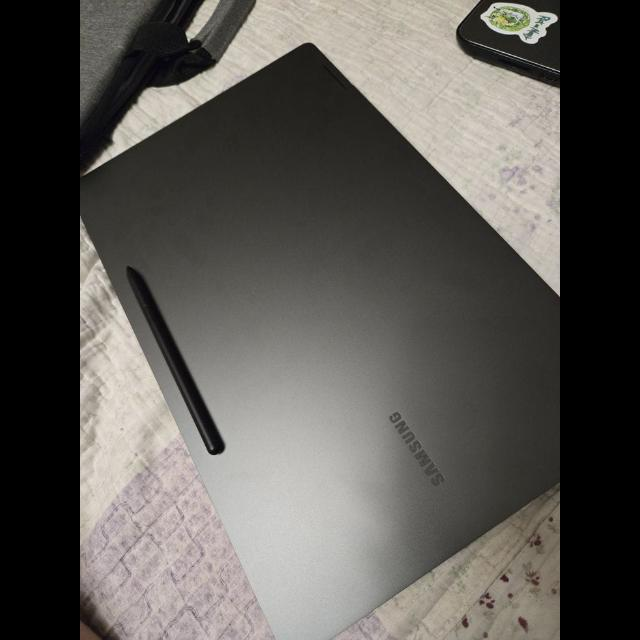laptop: (91, 34, 559, 640)
